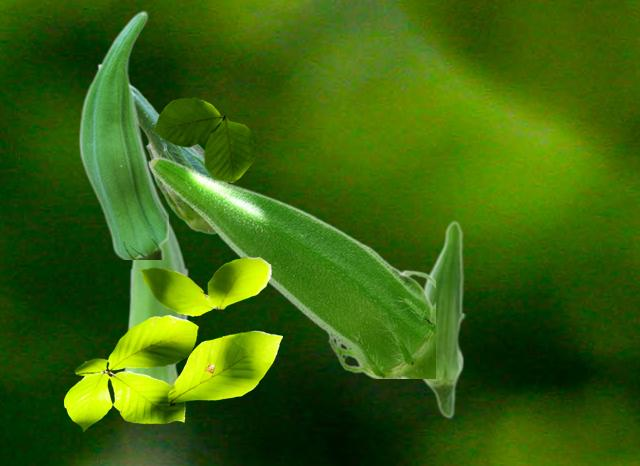okra: (148, 156, 434, 377), (97, 63, 228, 233), (78, 10, 167, 258), (123, 218, 188, 384), (417, 220, 464, 418)
